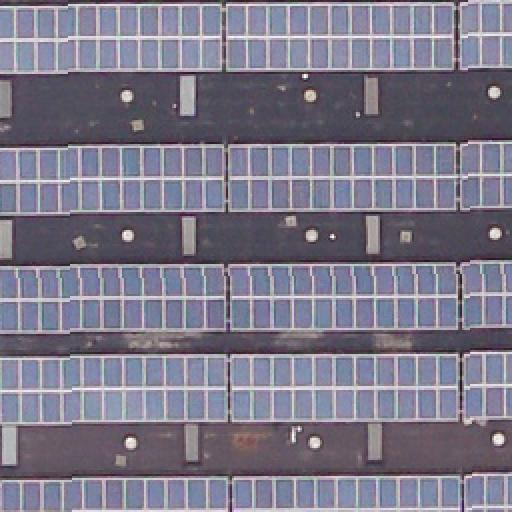solar-panel: (0, 354, 228, 426), (225, 145, 455, 215), (225, 5, 455, 75), (230, 353, 458, 423), (0, 145, 224, 215), (229, 262, 459, 330), (1, 5, 223, 75), (0, 264, 224, 332), (232, 473, 460, 511), (0, 476, 228, 512), (457, 4, 511, 72), (460, 142, 512, 210), (464, 355, 512, 421), (464, 263, 512, 329), (464, 473, 512, 511)
